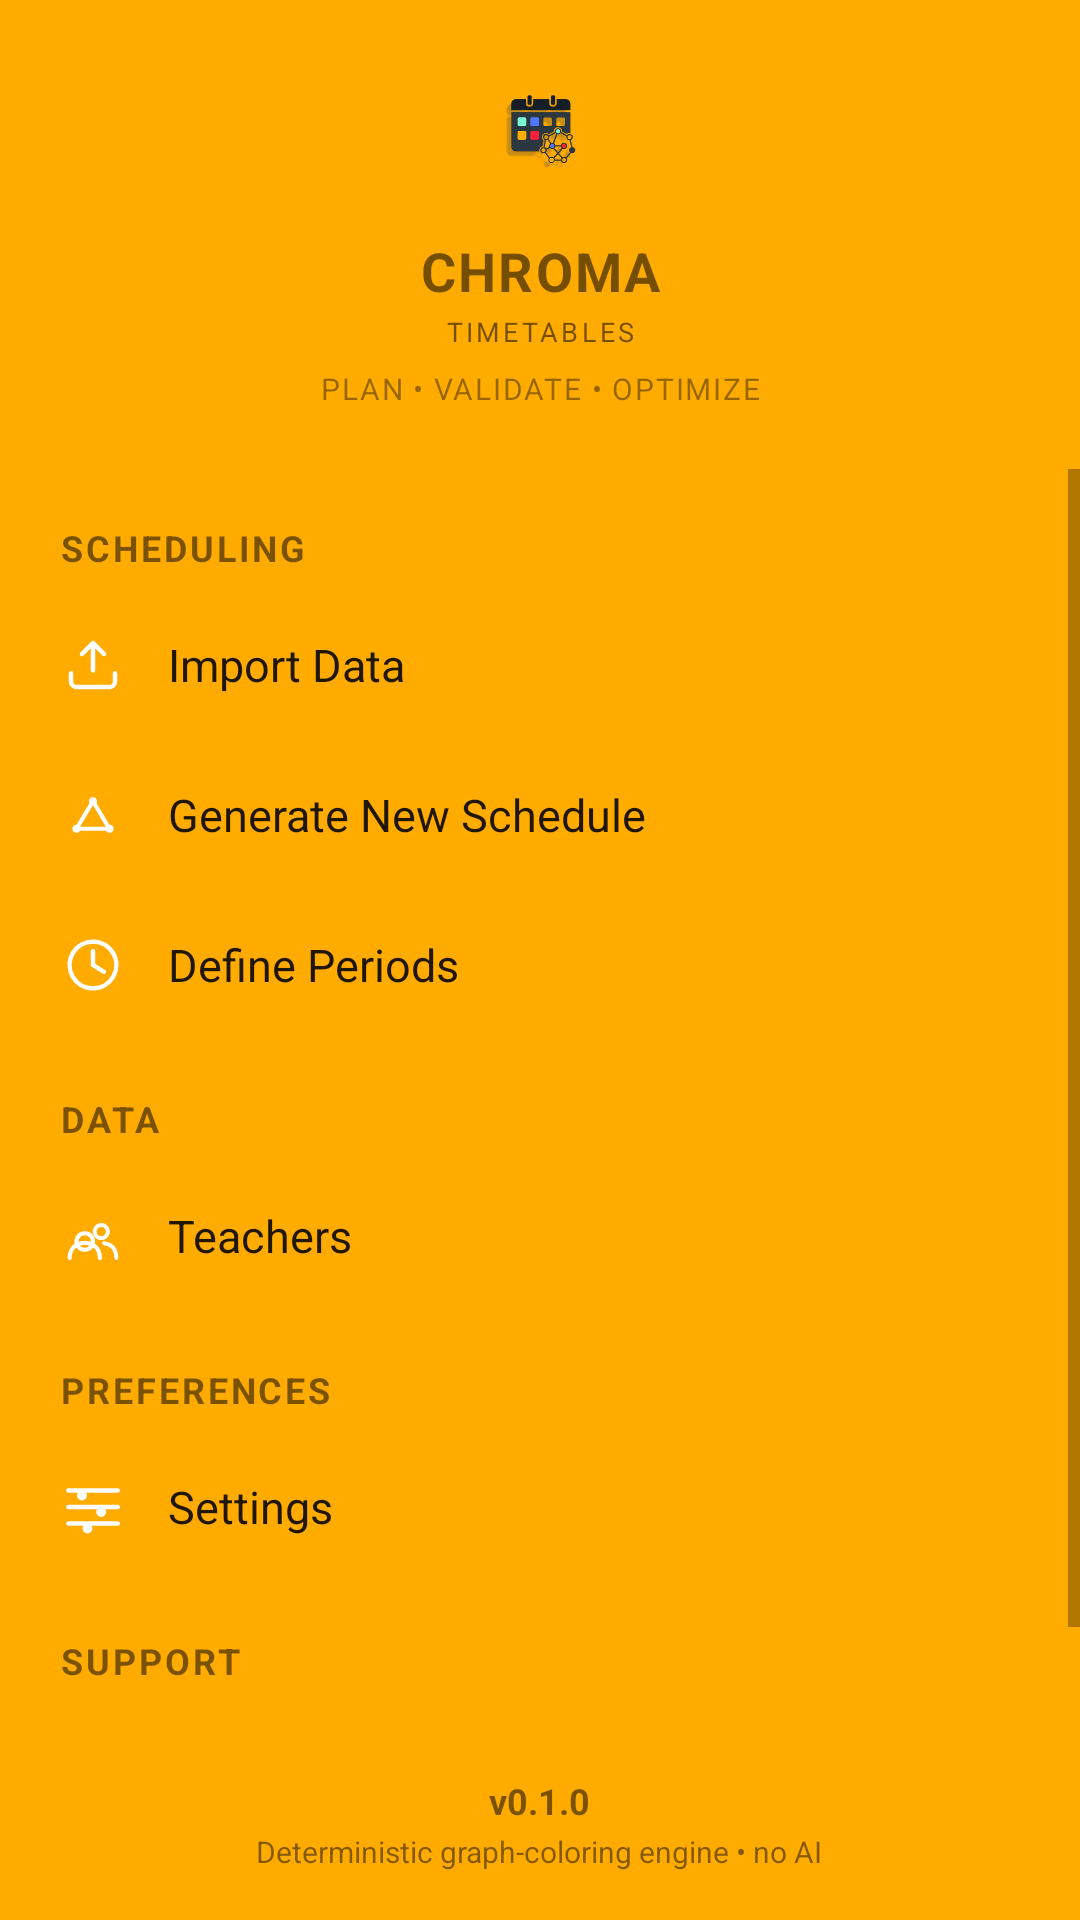

Where icons sit on this 1080 x 1920 app screen, as (x1, y1, x2, y2):
sliders: (66, 1488, 120, 1534)
